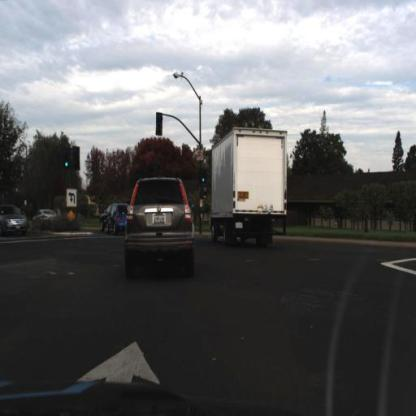car: (122, 174, 198, 279), (105, 199, 133, 237), (2, 205, 29, 237), (33, 202, 62, 231), (103, 203, 128, 234), (98, 199, 119, 235), (98, 202, 113, 233), (31, 209, 56, 226)
trafficLight: (155, 110, 166, 141)
trafficLight-Green: (63, 147, 73, 173), (64, 150, 70, 169)
trafficLight-Red: (73, 146, 81, 169), (156, 114, 163, 134)
truck: (210, 123, 292, 256)
